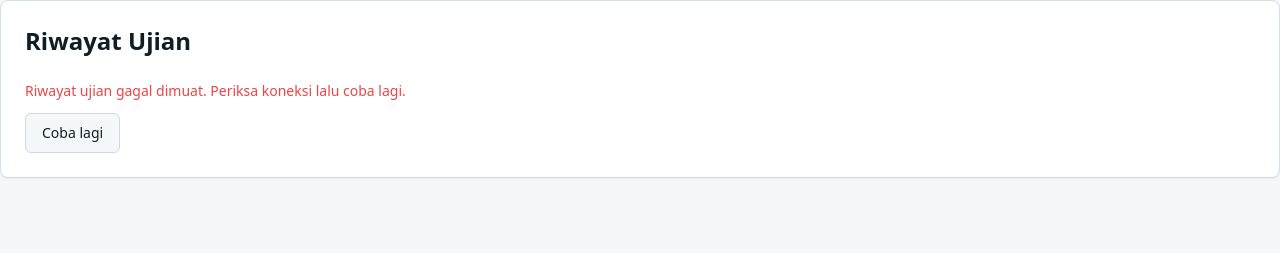
it: candidate history › shows failure and successfully retries without claiming the history is empty
Check: the message "Riwayat ujian gagal dimuat. Periksa koneksi lalu coba lagi." is shown, box [25,81,406,100]
Click the button "Coba lagi": coordinates (73, 133) [25,113,120,153]
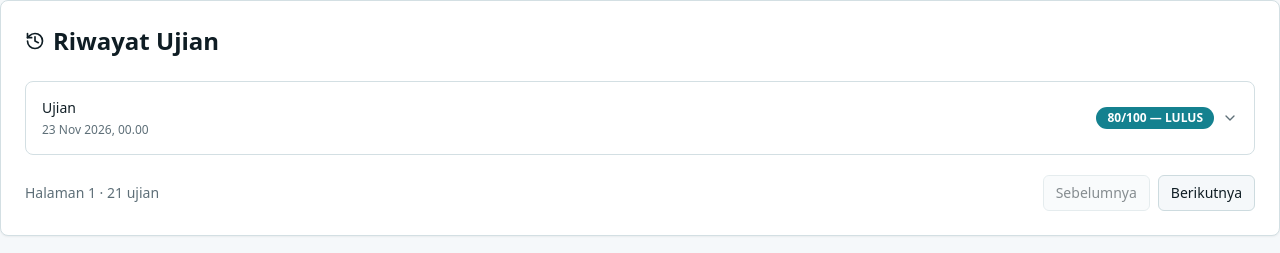
Check: the button "Ujian 23 Nov 2026, 00.00 80/100 — LULUS" is shown, box [26,82,1254,154]
